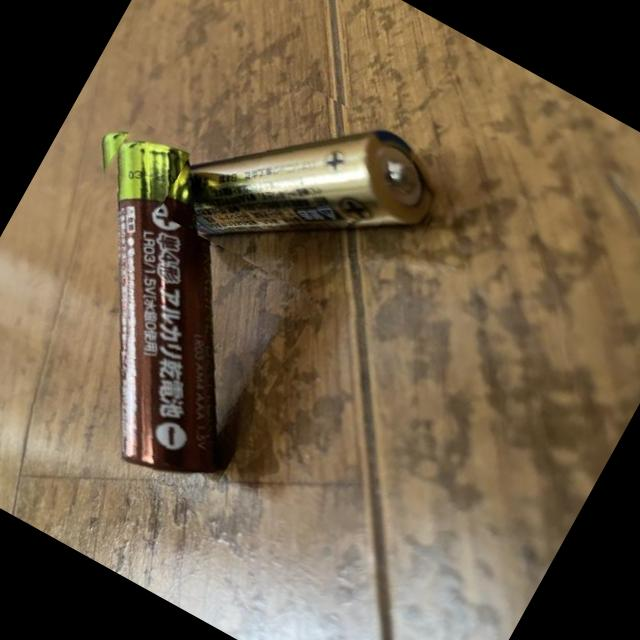Hazard: (0, 108, 354, 506), (158, 51, 462, 330)
